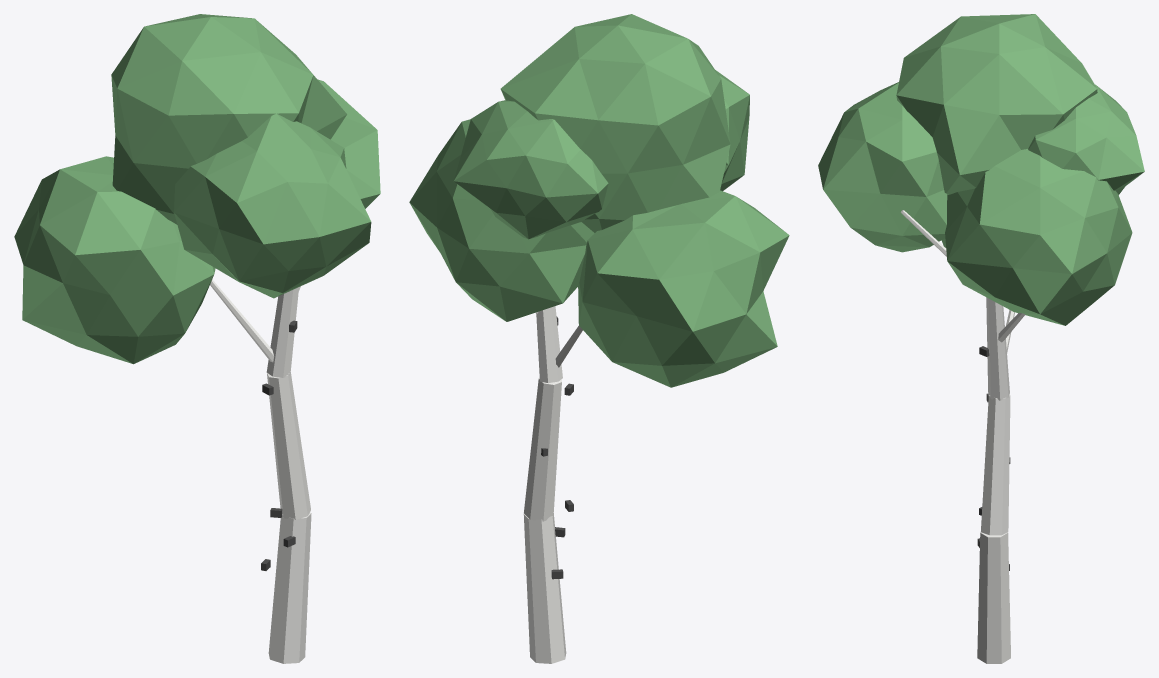
Rendered from baum_birke.glb.
3 renders of one model, left to right at view 1: azimuth 30°, elevation 25°; view 2: azimuth 150°, elevation 25°; view 3: azimuth 270°, elevation 25°, orthographic. The views are drawn at different scales.
Parts seen in each view (by area): view 1: Birke_Laub, Birke_Stamm, Birke_Marken; view 2: Birke_Laub, Birke_Stamm; view 3: Birke_Laub, Birke_Stamm.
Boxes of the visible parts, x1,y1,x2,y2 form: Birke_Laub: [14, 14, 380, 364]; Birke_Stamm: [210, 279, 311, 663]; Birke_Marken: [261, 320, 297, 570]; Birke_Laub: [409, 14, 789, 387]; Birke_Stamm: [523, 306, 582, 663]; Birke_Laub: [818, 14, 1144, 325]; Birke_Stamm: [901, 210, 1025, 663].
Size of the model in its own units: 3.57 by 6.5 by 3.2.
